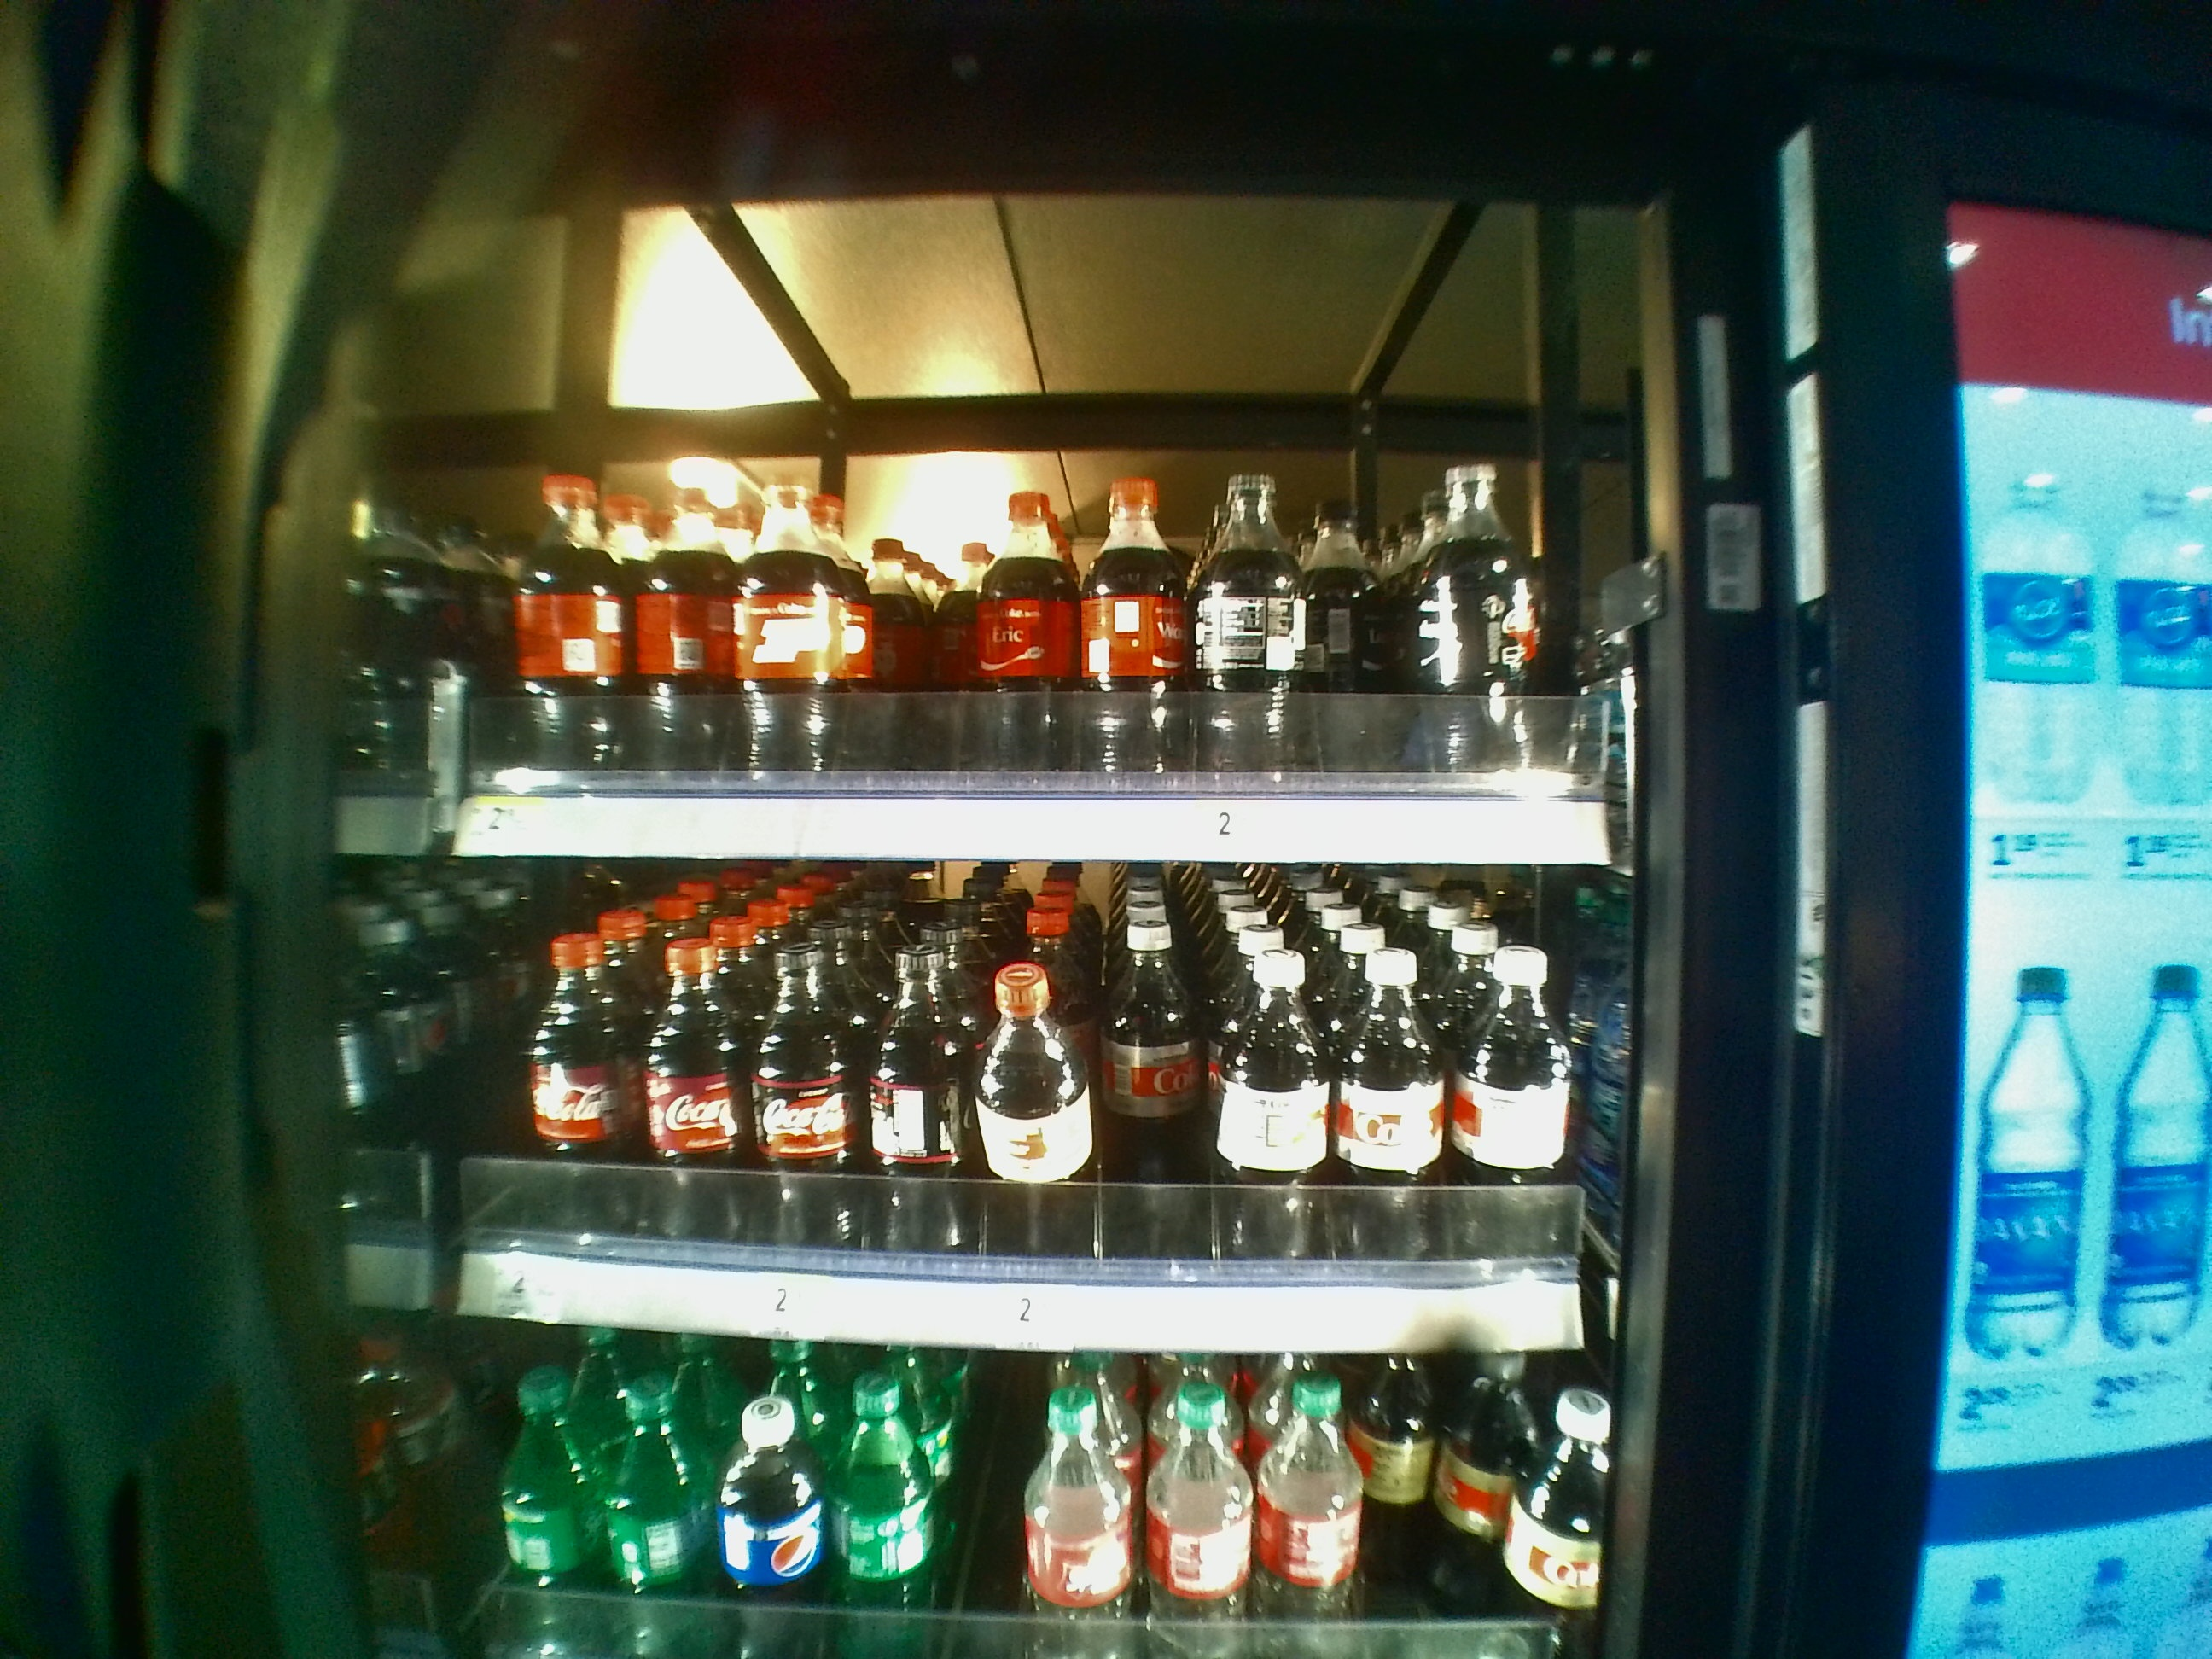shelf: (455, 247, 1630, 863), (446, 878, 1630, 1366)
